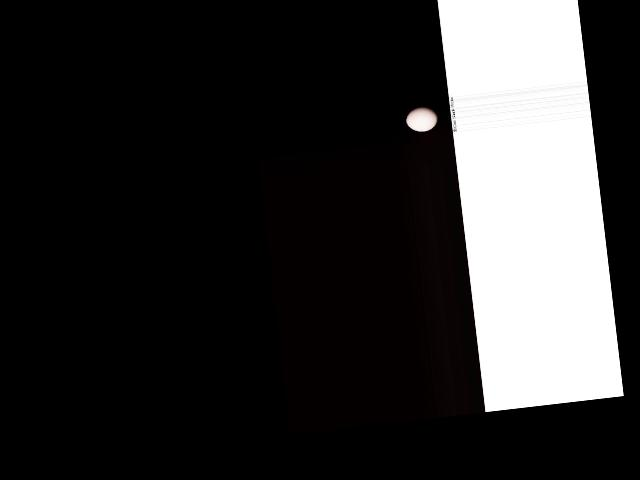egg: (405, 105, 439, 132)
